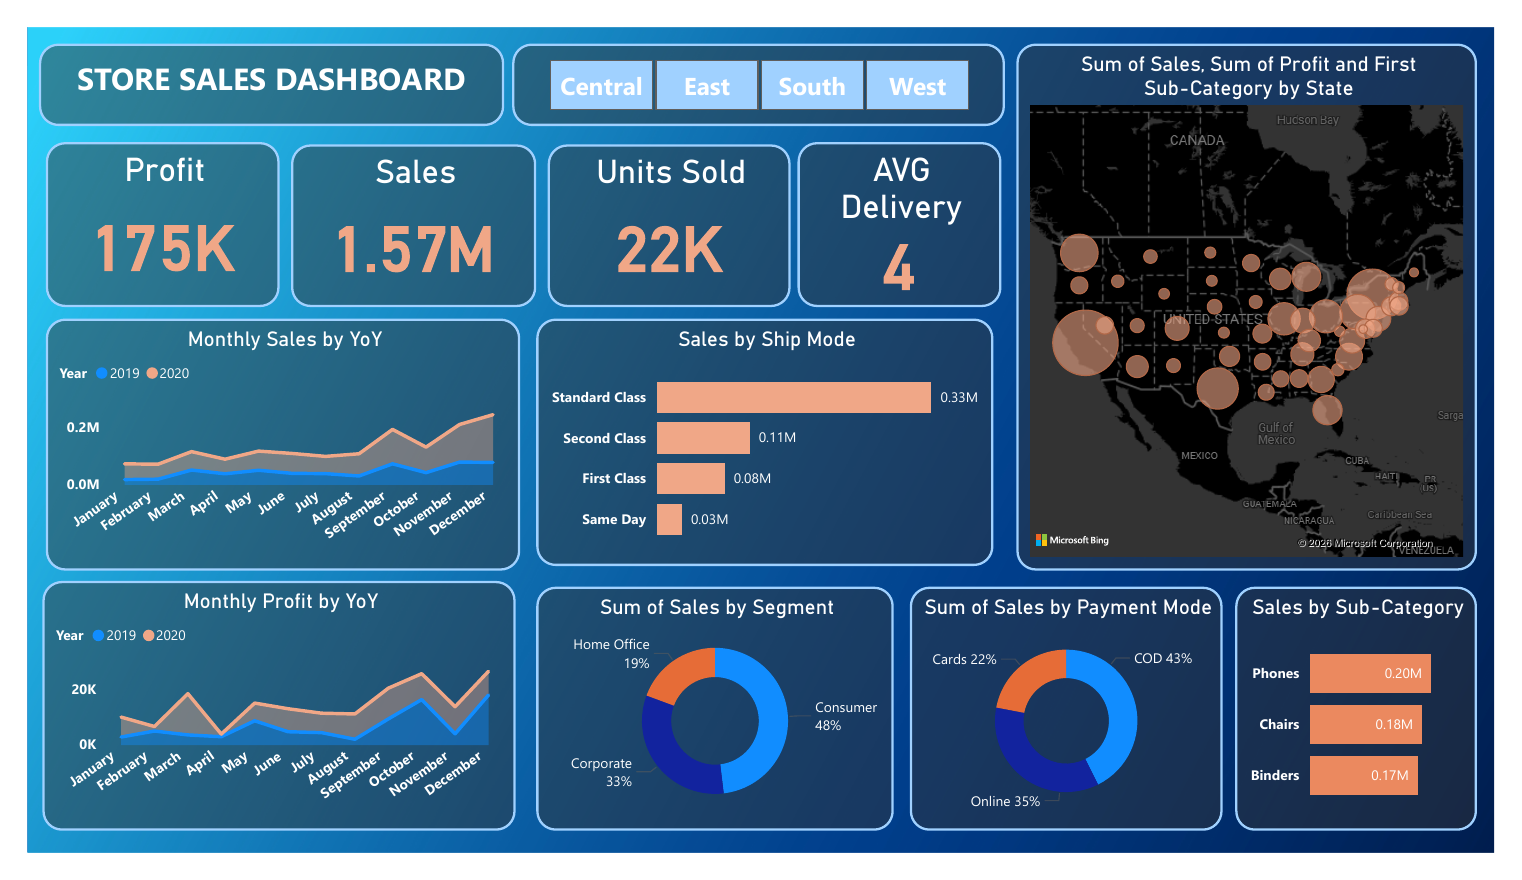

Layout of this report page (visuals, bound fields, positions):
{"tool":"powerbi","page":{"name":"Page 1","canvas":[1280,720],"ordinal":0},"visuals":[{"type":"slicer","title":"Sales by Category","fields":{"Values":["SuperStore_Sales_Dataset.Region"]},"box":[422.5,13.8,430,72.5],"z":0},{"type":"clusteredBarChart","title":"Sales by Sub-Category","fields":{"Category":["SuperStore_Sales_Dataset.Sub-Category"],"Y":["Sum(SuperStore_Sales_Dataset.Sales)"]},"box":[1053.8,487.5,211.2,213.8],"z":1000},{"type":"clusteredBarChart","title":"Sales by Ship Mode","fields":{"Category":["SuperStore_Sales_Dataset.Ship Mode"],"Y":["Sum(SuperStore_Sales_Dataset.Sales)"]},"box":[443.8,253.8,398.8,216.2],"z":2000},{"type":"stackedAreaChart","title":"Monthly Sales by YoY","fields":{"Category":["SuperStore_Sales_Dataset.Order Date.Variation.Date Hierarchy.Month"],"Y":["Sum(SuperStore_Sales_Dataset.Sales)"],"Series":["SuperStore_Sales_Dataset.Order Date.Variation.Date Hierarchy.Year"]},"box":[16.2,253.8,413.8,220],"z":3000},{"type":"stackedAreaChart","title":"Monthly Profit by YoY","fields":{"Category":["SuperStore_Sales_Dataset.Order Date.Variation.Date Hierarchy.Month"],"Series":["SuperStore_Sales_Dataset.Order Date.Variation.Date Hierarchy.Year"],"Y":["Sum(SuperStore_Sales_Dataset.Profit)"]},"box":[12.5,482.5,413.8,218.8],"z":4000},{"type":"map","fields":{"Category":["SuperStore_Sales_Dataset.State"],"Size":["Sum(SuperStore_Sales_Dataset.Sales)"]},"box":[862.5,13.8,402.5,460],"z":5000},{"type":"donutChart","fields":{"Category":["SuperStore_Sales_Dataset.Segment"],"Y":["Sum(SuperStore_Sales_Dataset.Sales)"]},"box":[443.8,487.5,312.5,213.8],"z":6000},{"type":"donutChart","fields":{"Category":["SuperStore_Sales_Dataset.Payment Mode"],"Y":["Sum(SuperStore_Sales_Dataset.Sales)"]},"box":[770,487.5,272.5,213.8],"z":7000},{"type":"textbox","box":[10,14,406,72],"z":8000},{"type":"card","title":"Sales","fields":{"Values":["Sum(SuperStore_Sales_Dataset.Sales)"]},"box":[230,102,214,142],"z":9000},{"type":"card","title":"Units Sold","fields":{"Values":["Sum(SuperStore_Sales_Dataset.Quantity)"]},"box":[454,102,212,142],"z":10000},{"type":"card","title":"Profit","fields":{"Values":["Sum(SuperStore_Sales_Dataset.Profit)"]},"box":[16,100,204,144],"z":11000},{"type":"card","title":"AVG Delivery","fields":{"Values":["Avg(SuperStore_Sales_Dataset.AvgShipDay)"]},"box":[672,100,178,144],"z":12000}]}

Visuals, with their boxes in screenshot pixels (x1, y1, x2, y2), scaled from the page's 1280x720 canvas onto the 1522x880 screenshot:
"Sales by Category" slicer: pyautogui.locateOnScreen(502, 17, 1014, 105)
"Sales by Sub-Category" clusteredBarChart: pyautogui.locateOnScreen(1253, 596, 1504, 857)
"Sales by Ship Mode" clusteredBarChart: pyautogui.locateOnScreen(528, 310, 1002, 574)
"Monthly Sales by YoY" stackedAreaChart: pyautogui.locateOnScreen(19, 310, 511, 579)
"Monthly Profit by YoY" stackedAreaChart: pyautogui.locateOnScreen(15, 590, 507, 857)
map - SuperStore_Sales_Dataset.State x Sum(SuperStore_Sales_Dataset.Sales): pyautogui.locateOnScreen(1026, 17, 1504, 579)
donutChart - SuperStore_Sales_Dataset.Segment x Sum(SuperStore_Sales_Dataset.Sales): pyautogui.locateOnScreen(528, 596, 899, 857)
donutChart - SuperStore_Sales_Dataset.Payment Mode x Sum(SuperStore_Sales_Dataset.Sales): pyautogui.locateOnScreen(916, 596, 1240, 857)
textbox: pyautogui.locateOnScreen(12, 17, 495, 105)
"Sales" card: pyautogui.locateOnScreen(273, 125, 528, 298)
"Units Sold" card: pyautogui.locateOnScreen(540, 125, 792, 298)
"Profit" card: pyautogui.locateOnScreen(19, 122, 262, 298)
"AVG Delivery" card: pyautogui.locateOnScreen(799, 122, 1011, 298)
